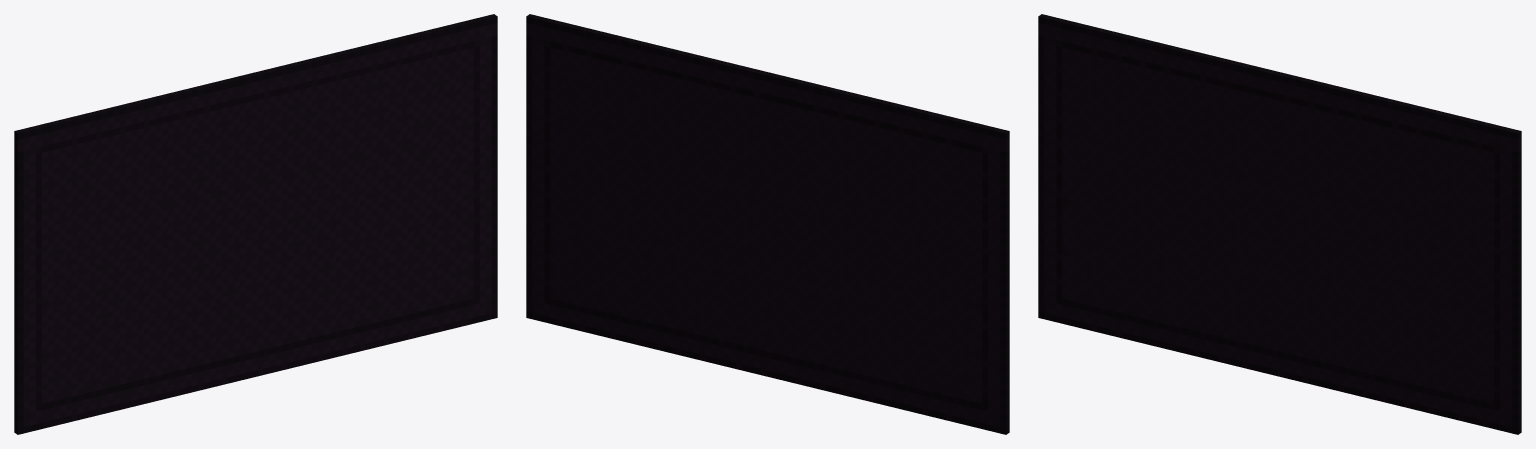
File: carpet-2.obj
The picture shows the model from 3 angles, left to right: view 1: azimuth 30°, elevation 25°; view 2: azimuth 150°, elevation 25°; view 3: azimuth 330°, elevation 25°; orthographic projection.
Size of the model in its own units: 8 by 4.8 by 0.1.
1 material, 1 textured.
